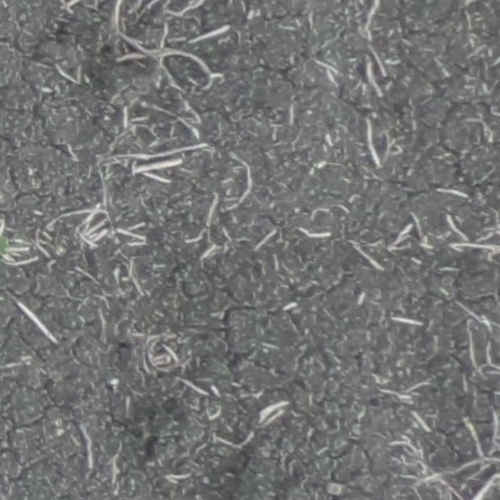isolated: (0, 232, 12, 267)
